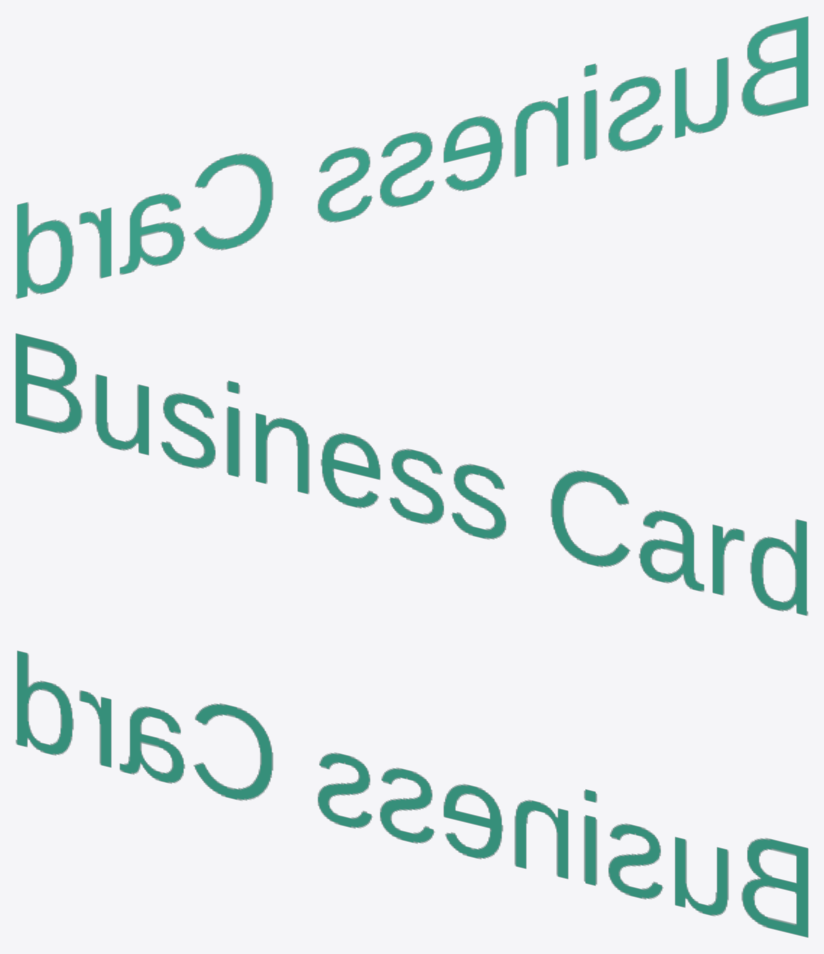
The picture shows the model from 3 angles, top to bottom: view 1: azimuth 30°, elevation 25°; view 2: azimuth 150°, elevation 25°; view 3: azimuth 330°, elevation 25°; orthographic projection.
Parts seen in each view (by area): view 1: BusinessCard; view 2: BusinessCard; view 3: BusinessCard.
Part boxes in pixels (left/top/right/bottom): BusinessCard: left=16, top=16, right=808, bottom=298; BusinessCard: left=15, top=333, right=807, bottom=615; BusinessCard: left=16, top=650, right=808, bottom=937.
Size of the model in its own units: 23.04 by 2.74 by 0.
Materials: 1 (1 with a texture image).
